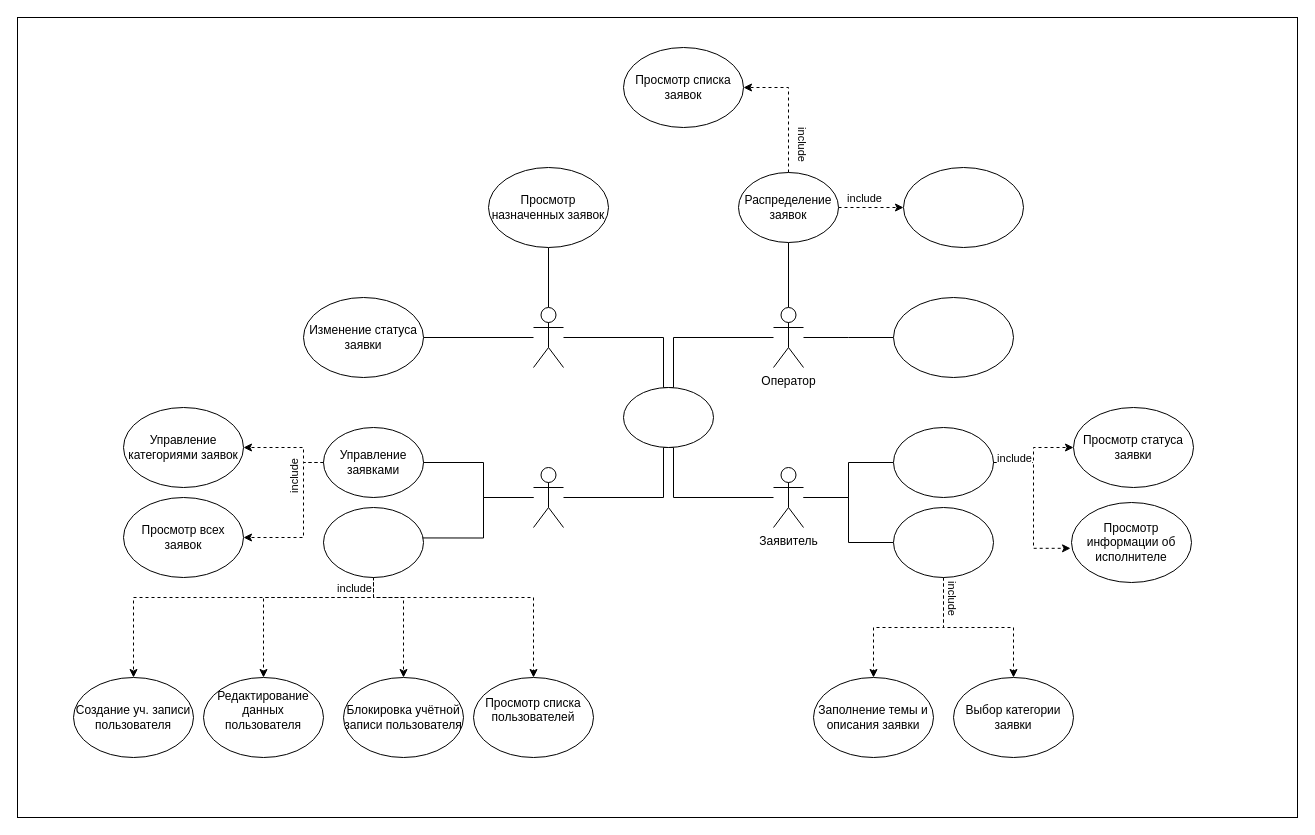
The diagram is 1315 pixels wide and 835 high, and some of its shapes have lost their labels. The shapes that lost their labels are listed below. From the top down, each one's centre as x and y in pixels, then its label:
At (963,207): "Назначение исполнителя".
At (548,337): "Исполнитель".
At (953,337): "Закрытие выполненной заявки".
At (668,417): "Авторизация в системе".
At (943,462): "Просмотр своих заявок".
At (548,497): "Администратор".
At (373,542): "Управление пользователями".
At (943,542): "Создание заявок".
